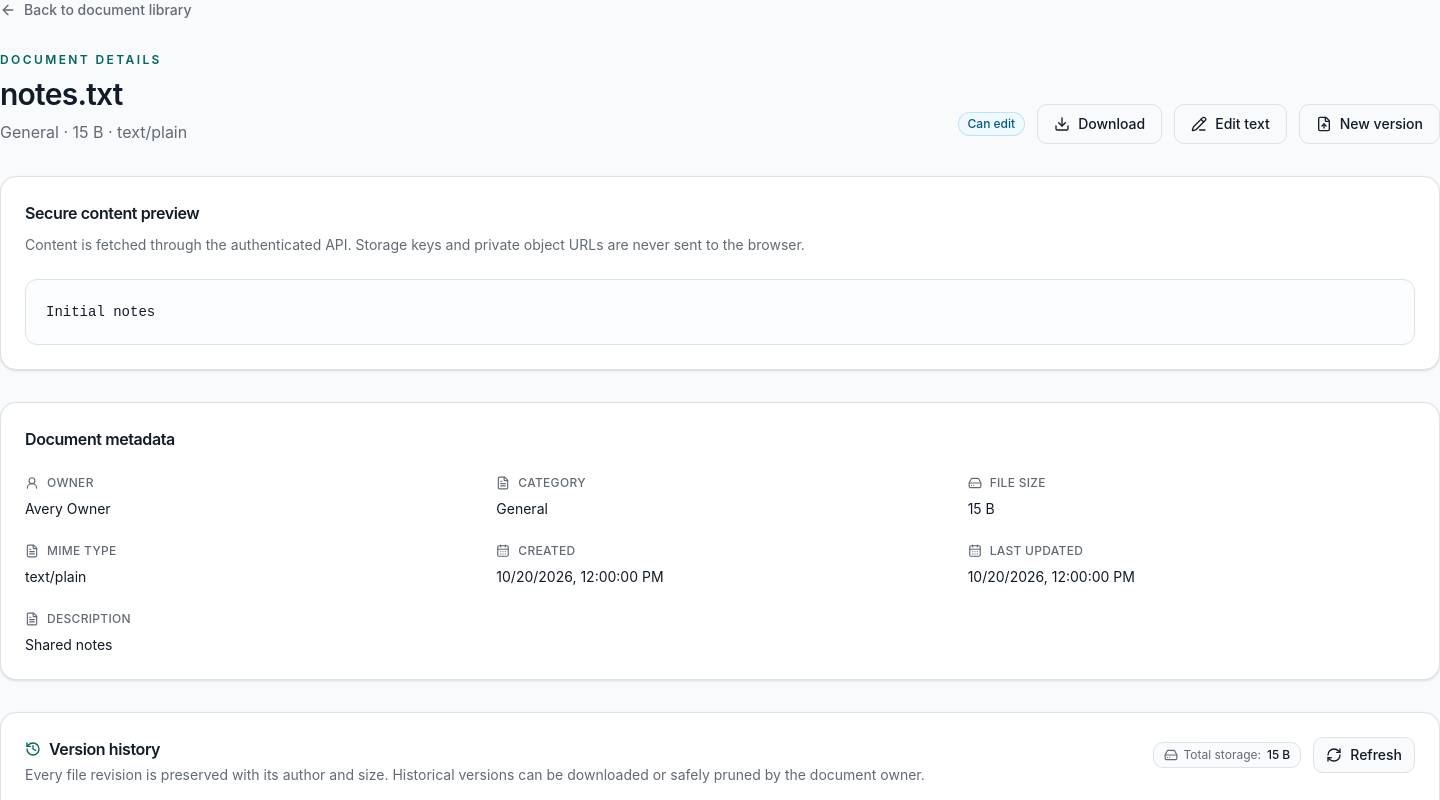
it: DocumentDetailsPage content workflows › saves edited plain-text content as a new version
This screenshot has width=1440, height=800.
Click the button "Edit text".
click(1230, 124)  # box [1174,104,1287,144]
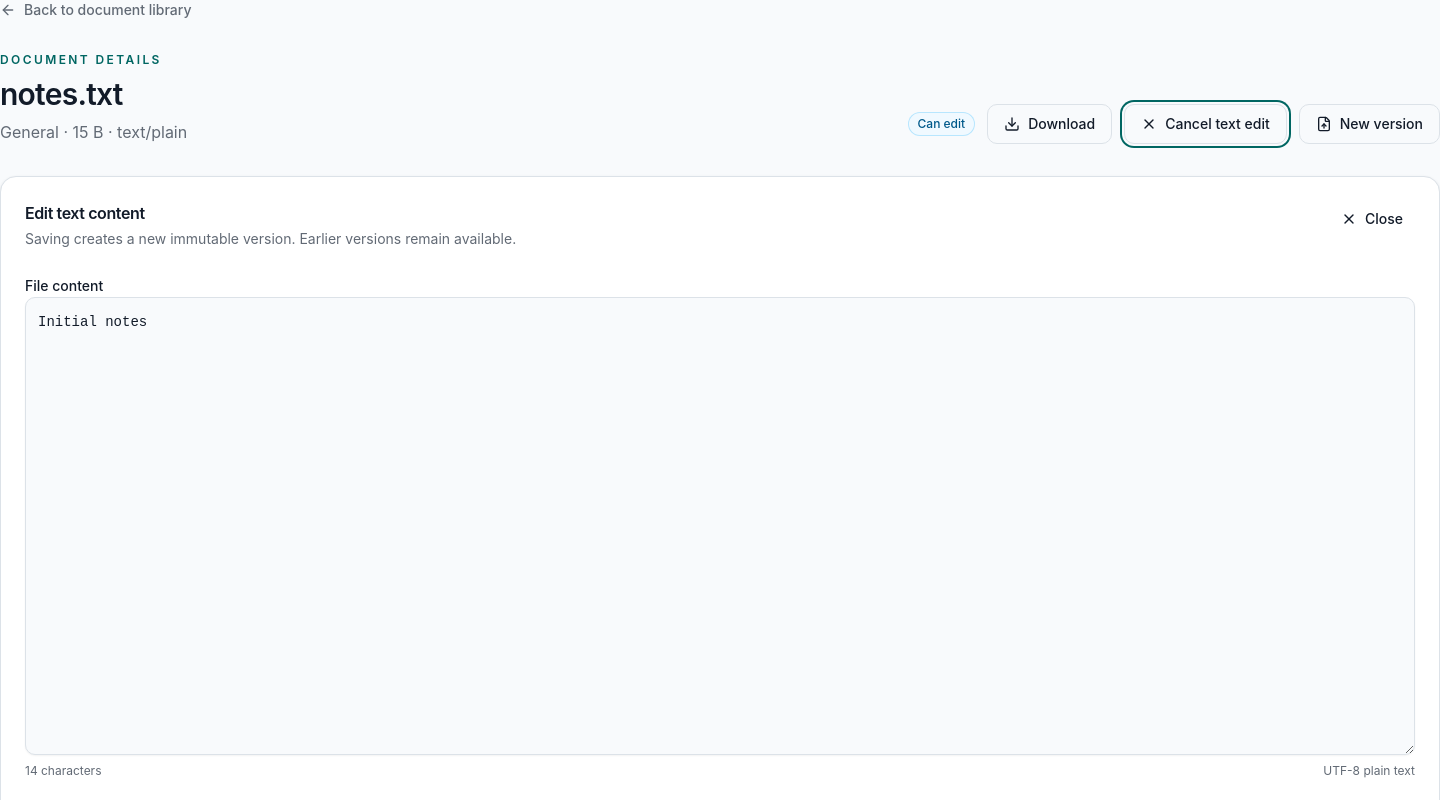
Replace the text in the text box labelled "File content" with "Updated notes" at {"x": 720, "y": 526}, box [25,297,1415,755]
(page scrolled)
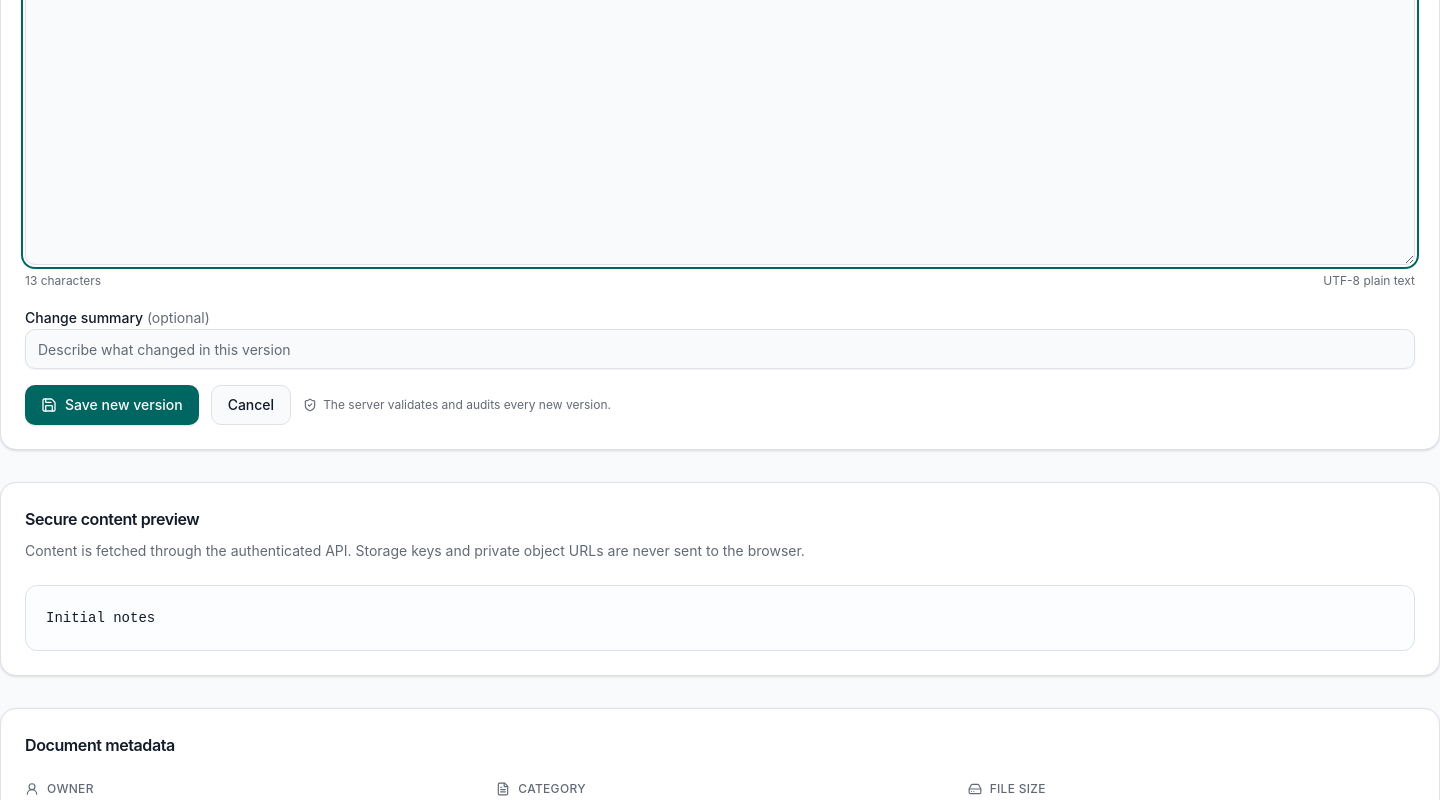
Click the button "Save new version".
click(112, 405)  # box [25,385,199,425]
(page scrolled)
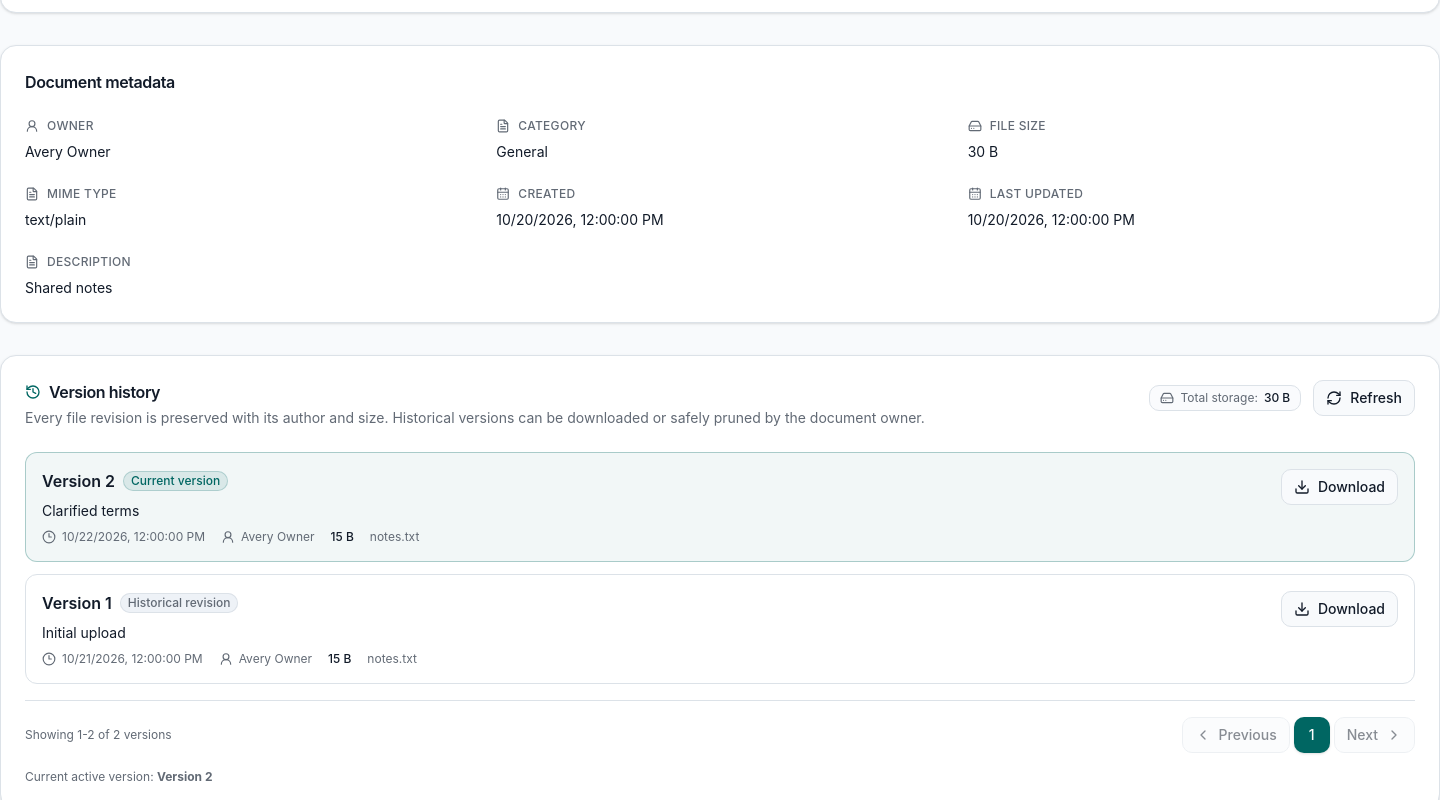
Now the text "Version 2" next to "Current version" is shown, box [42,469,115,493]
